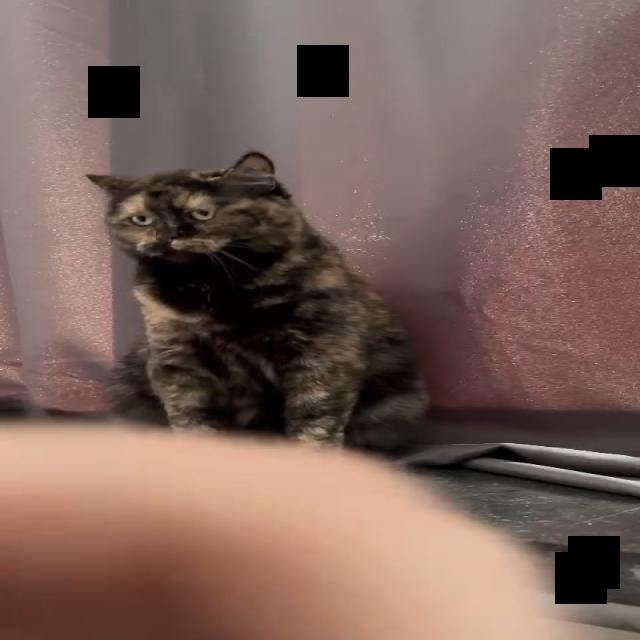authorized: (84, 150, 431, 453)
